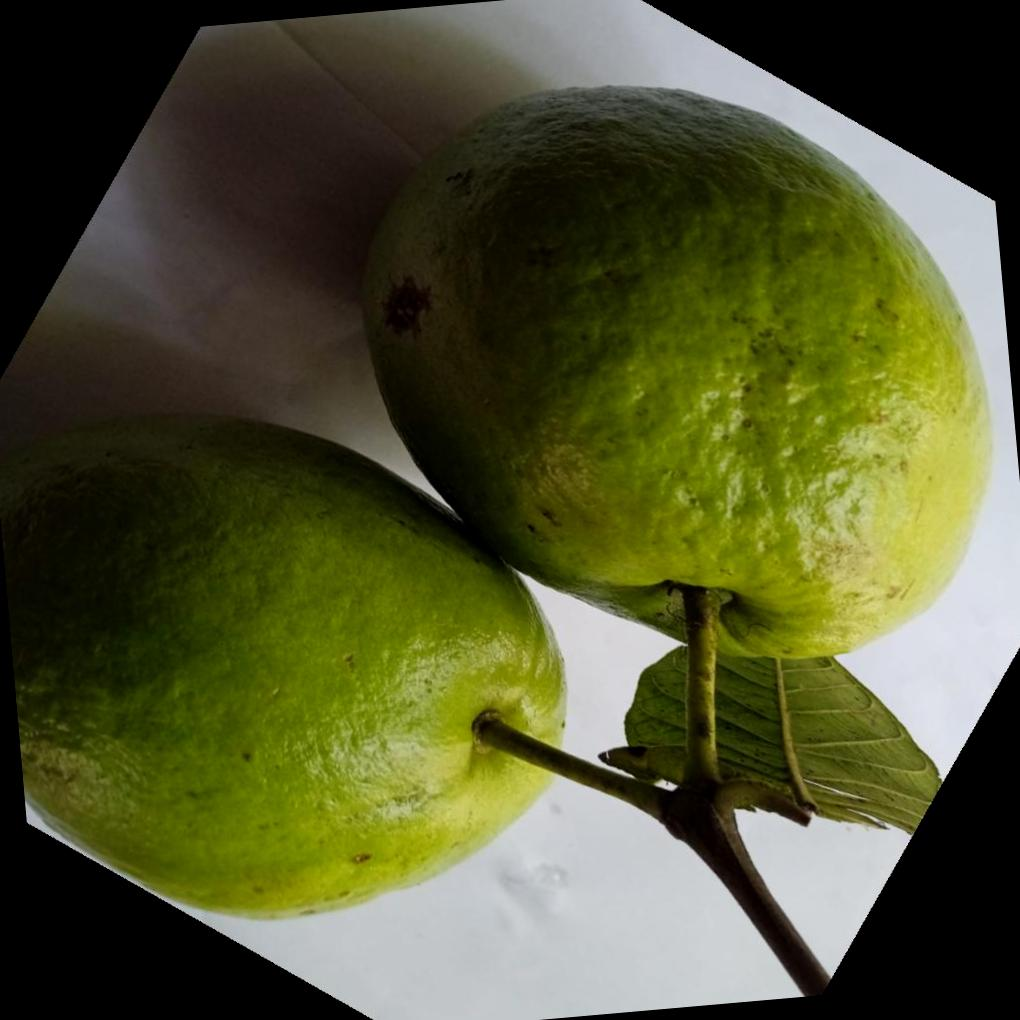FreshGuava: (0, 79, 994, 919)
